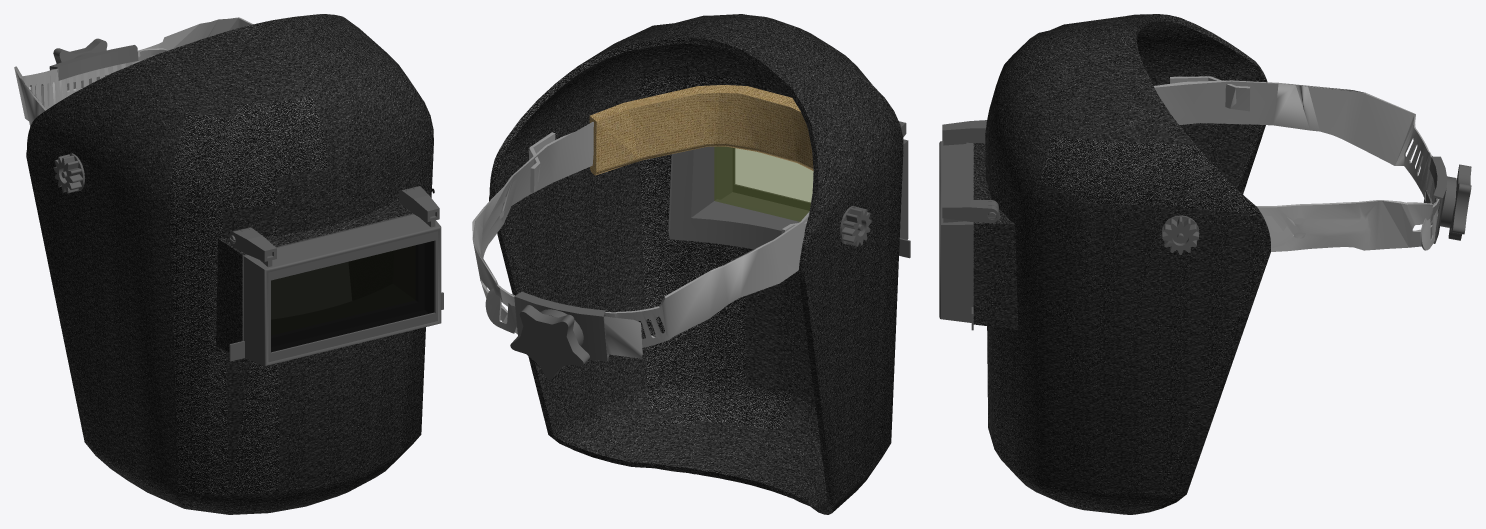
The model's file is Weld_Mask.fbx.
3 renders of one model, left to right at view 1: azimuth 30°, elevation 25°; view 2: azimuth 150°, elevation 25°; view 3: azimuth 270°, elevation 25°, orthographic. The views are drawn at different scales.
Visible parts, largest first — view 1: polySurface25; view 2: polySurface25; view 3: polySurface25.
Boxes of the visible parts, bbox=[...] form: polySurface25: bbox=[14, 14, 443, 514]; polySurface25: bbox=[472, 14, 910, 514]; polySurface25: bbox=[939, 14, 1471, 514].
Size of the model in its own units: 19.85 by 26.26 by 28.53.
7 materials, 2 textured.
